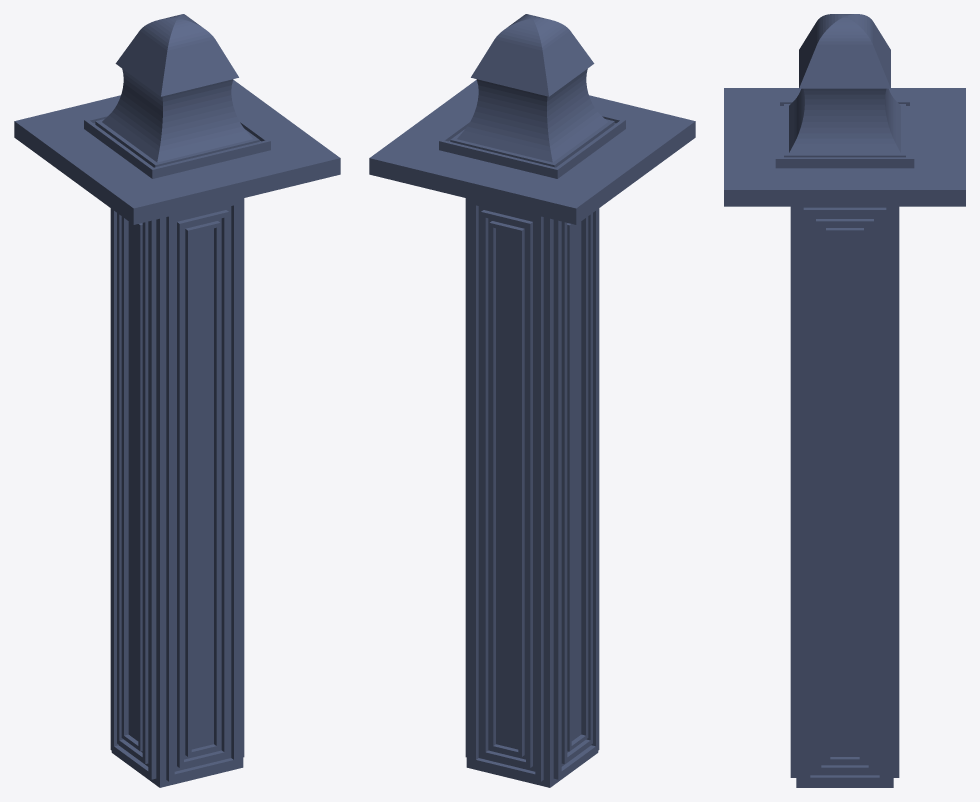
The model's file is çit tekli.fbx.
The picture shows the model from 3 angles, left to right: view 1: azimuth 30°, elevation 25°; view 2: azimuth 150°, elevation 25°; view 3: azimuth 270°, elevation 25°; orthographic projection.
Parts seen in each view (by area): view 1: Plane.001; view 2: Plane.001; view 3: Plane.001.
Part boxes in pixels (x1,y1,x2,y2): Plane.001: (14, 14, 340, 787); Plane.001: (369, 14, 695, 787); Plane.001: (724, 14, 965, 787).
Size of the model in its own units: 186 by 639 by 186.
